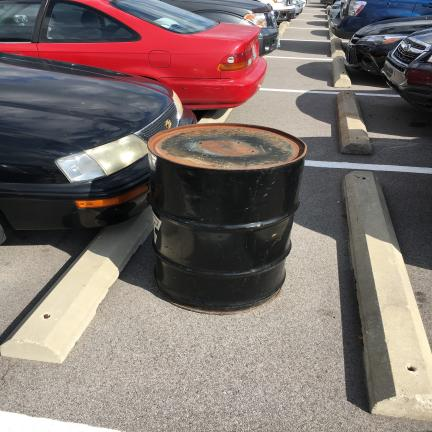besi_tidak_karat: (0, 53, 195, 242), (0, 0, 266, 109), (160, 171, 274, 296), (345, 15, 431, 74)
karat: (149, 124, 305, 170)
